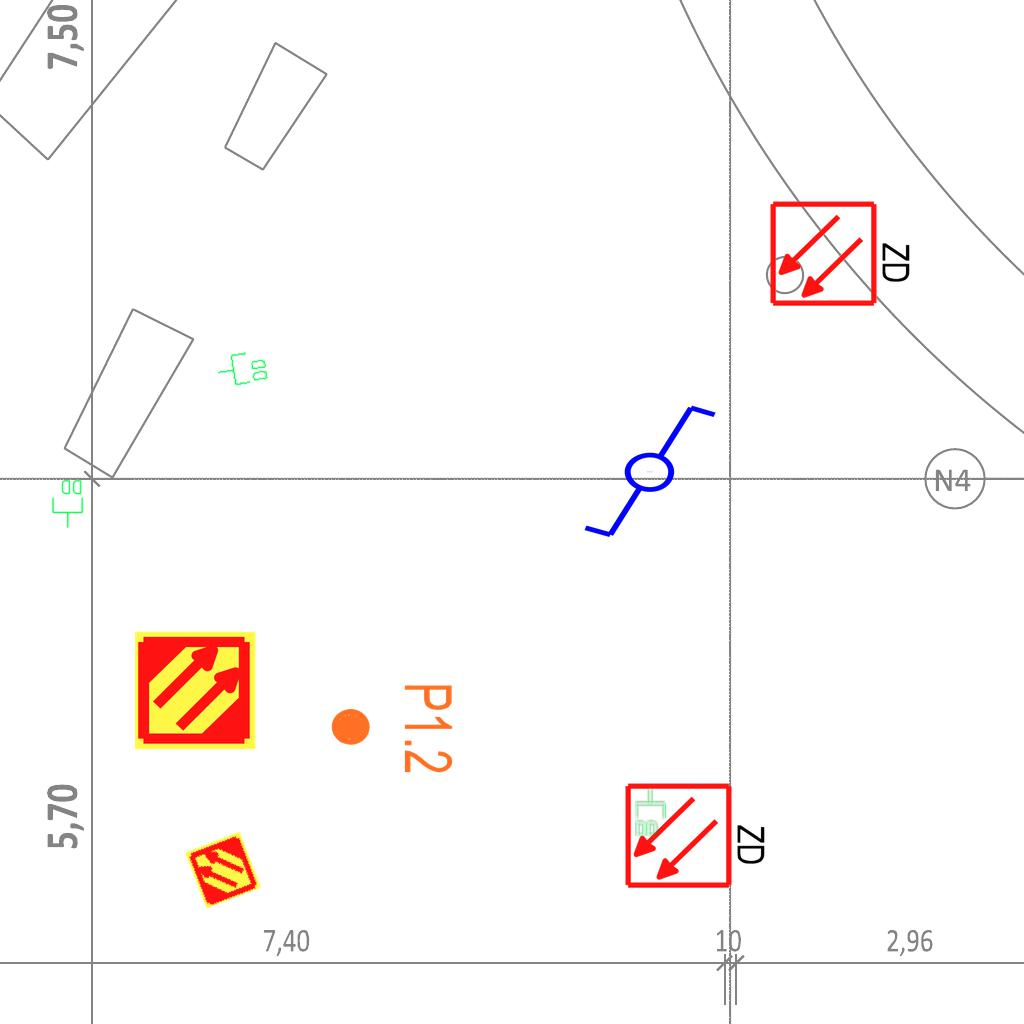ASR_Ansaugrauchmelder: (133, 628, 258, 753), (182, 829, 264, 911)
Datenanschluss_zweifach: (214, 348, 271, 390), (51, 478, 85, 529), (633, 787, 667, 838)
Downlight_LED_Einbauleuchten_Flur: (328, 682, 456, 775)
Wechselschalter: (563, 398, 720, 542)
ZD_Melder_in_Zwischendecke_mit_Revisionsoeffnung_mind_40_x_40_cm: (623, 777, 772, 891), (768, 195, 917, 309)
